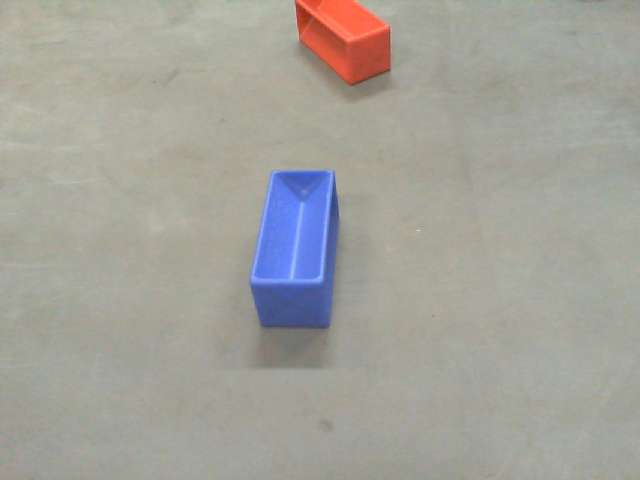BlueSample: (248, 167, 345, 337)
RedSample: (293, 1, 393, 87)
